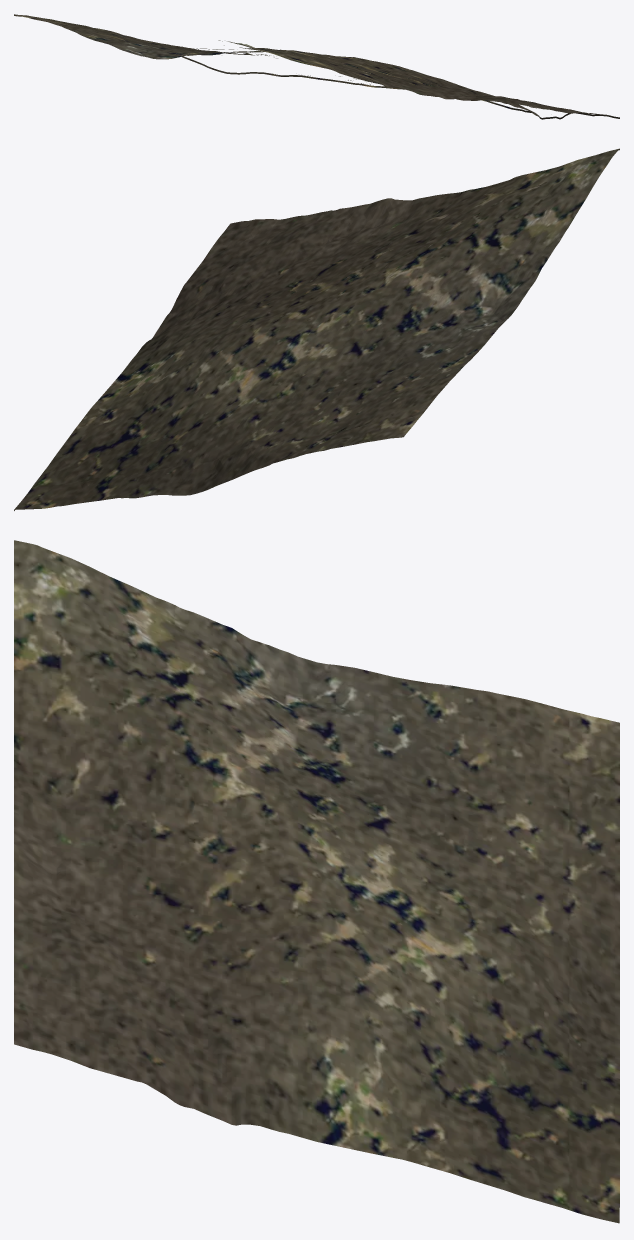
The picture shows the model from 3 angles, top to bottom: view 1: azimuth 30°, elevation 25°; view 2: azimuth 150°, elevation 25°; view 3: azimuth 270°, elevation 25°; orthographic projection. The views are drawn at different scales.
Bounding box in the file's own units: 250 × 184 × 241.
Materials: 1 (1 with a texture image).
